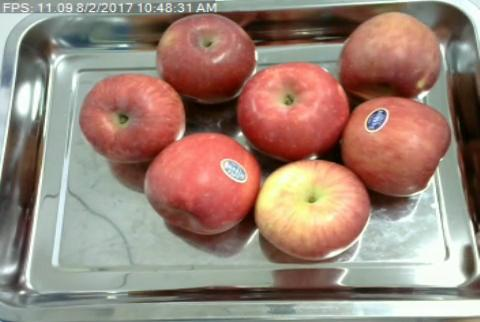apple: (143, 131, 260, 235), (256, 160, 371, 263), (343, 97, 451, 197), (237, 63, 348, 156), (79, 73, 184, 165), (340, 12, 440, 103), (156, 13, 256, 103)
